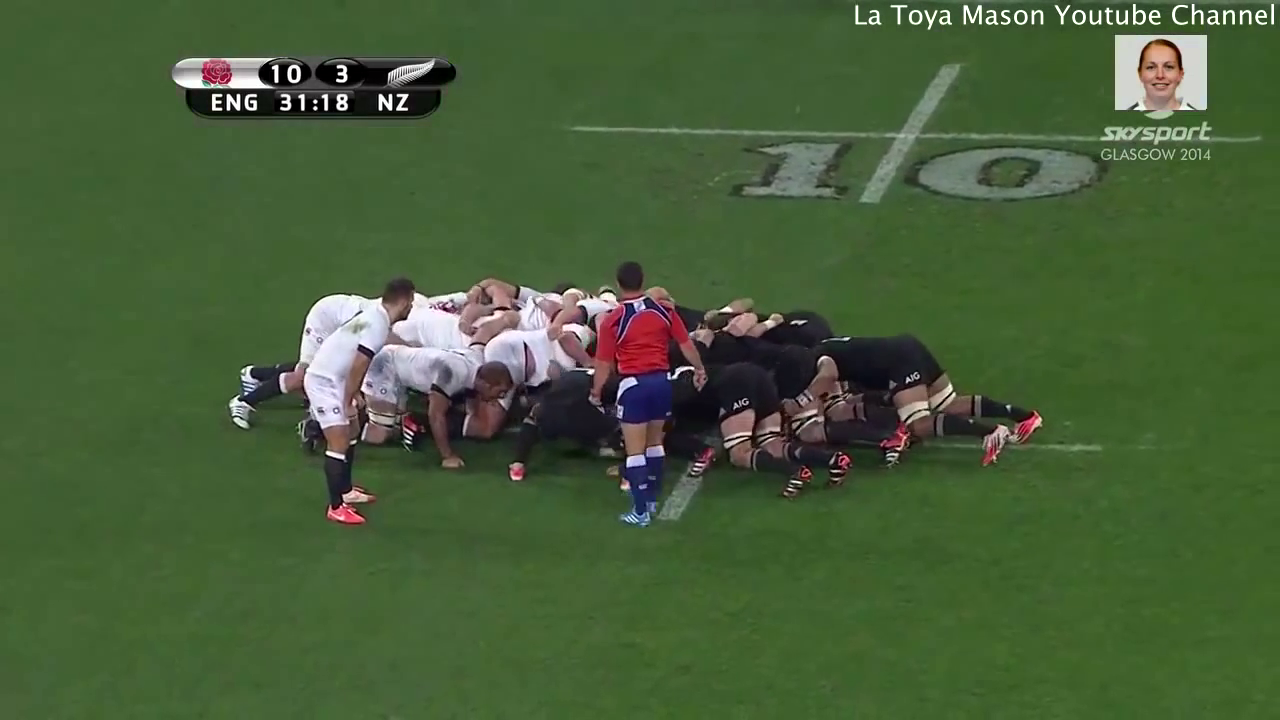player: (777, 316, 1043, 461), (579, 256, 708, 545), (300, 274, 422, 532), (633, 362, 856, 503), (287, 339, 516, 472), (216, 273, 368, 441)
scrum: (207, 257, 1061, 507)
